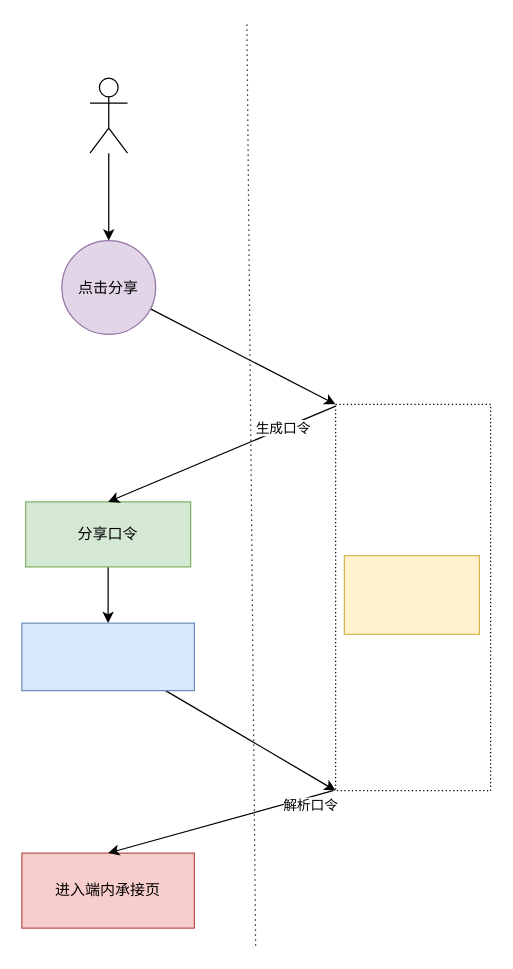
Image size: 513x969. Some labels were removed from this diagram. The centre of each missing label's shape, as x and y in pixels:
"复制喵口令，打开手猫" goes at (x=107, y=656).
"应用：sharepassword" goes at (x=411, y=594).
